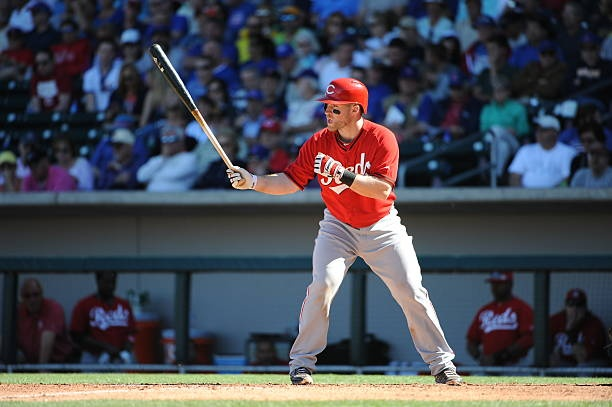bita: (150, 44, 239, 189)
